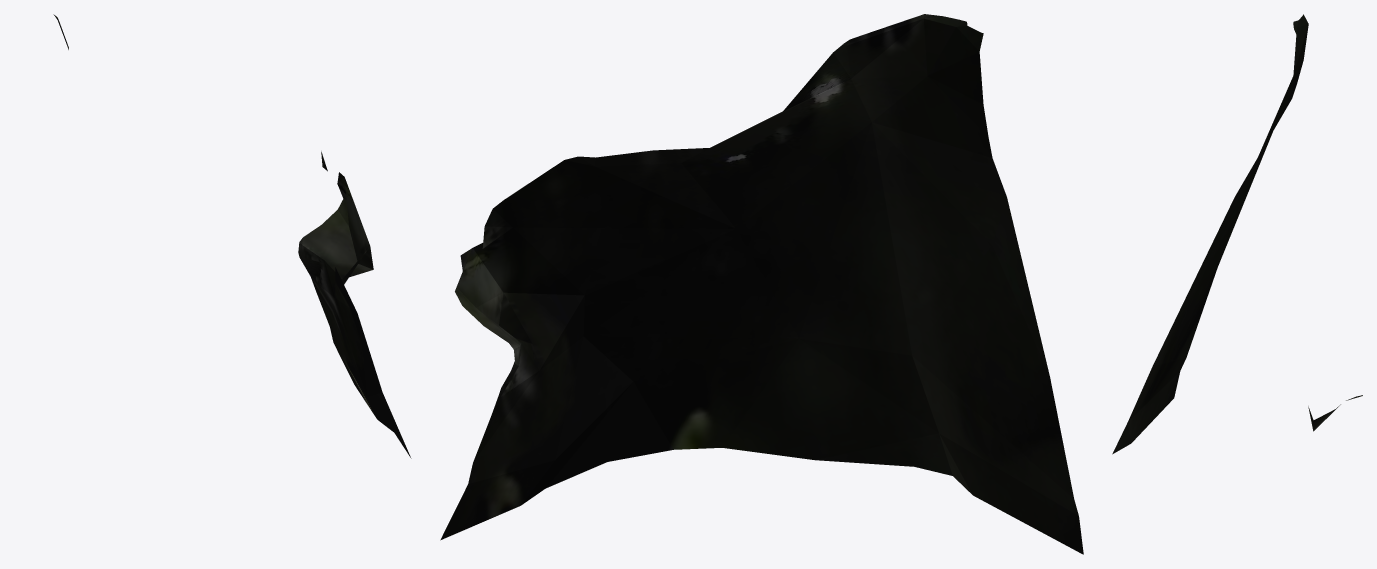
The picture shows the model from 3 angles, left to right: view 1: azimuth 30°, elevation 25°; view 2: azimuth 150°, elevation 25°; view 3: azimuth 270°, elevation 25°; orthographic projection. The views are drawn at different scales.
Bounding box in the file's own units: 0.7329 × 0.8373 × 0.4953.
3 materials, 3 textured.
